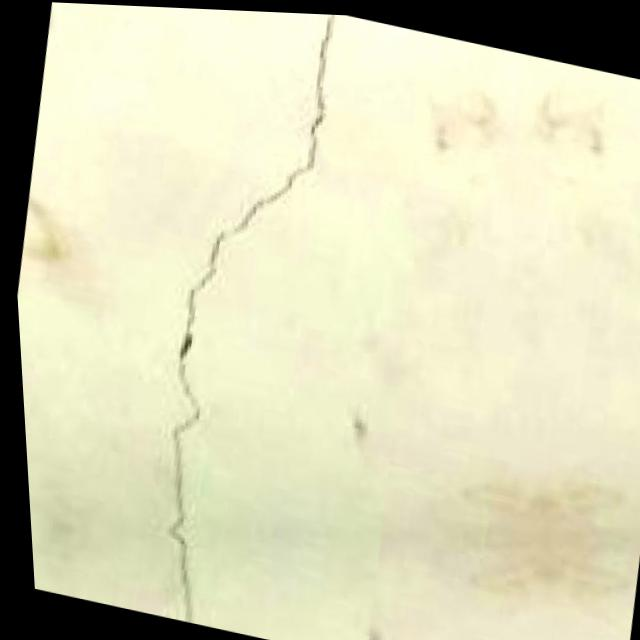Crack: (71, 2, 394, 640)
